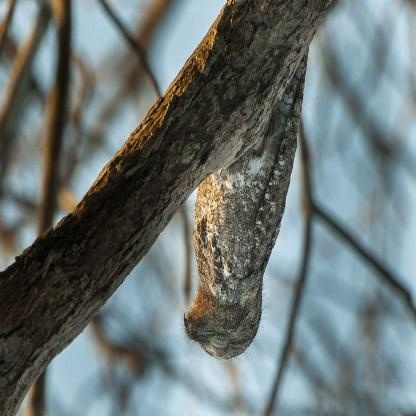Owl: (182, 88, 304, 356)
